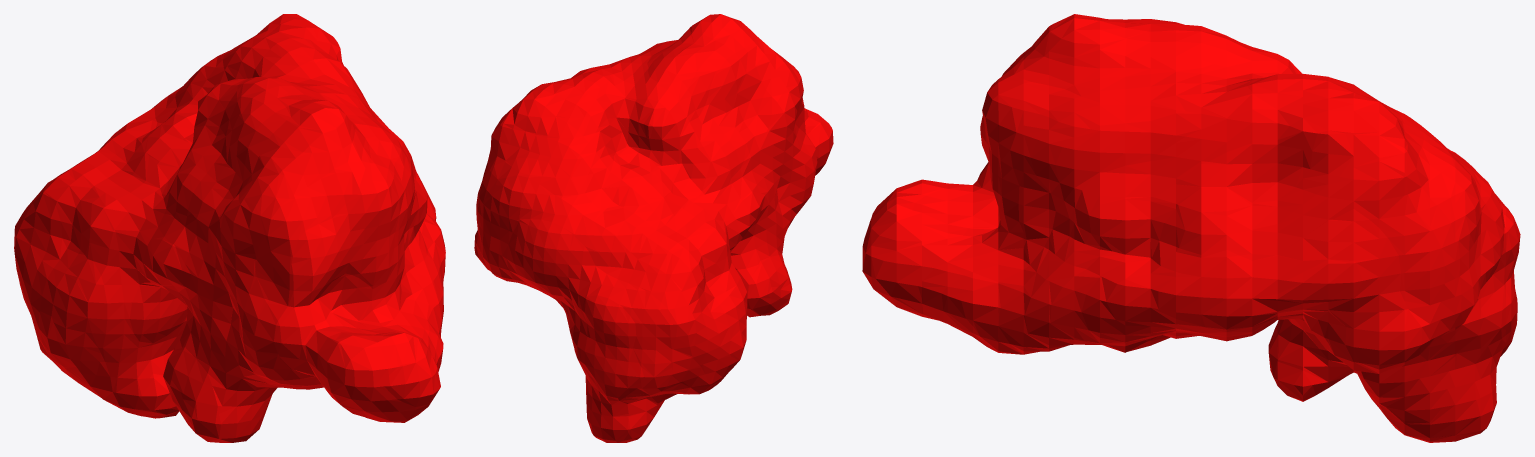
File: cysN_coarse.dae
The picture shows the model from 3 angles, left to right: view 1: azimuth 30°, elevation 25°; view 2: azimuth 150°, elevation 25°; view 3: azimuth 270°, elevation 25°; orthographic projection. The views are drawn at different scales.
Parts seen in each view (by area): view 1: cysN; view 2: cysN; view 3: cysN.
Part boxes in pixels (x1=…): cysN: x1=14, y1=14, x2=445, y2=442; cysN: x1=474, y1=14, x2=833, y2=442; cysN: x1=862, y1=14, x2=1520, y2=442.
Size of the model in its own units: 53 by 62.42 by 84.4.
